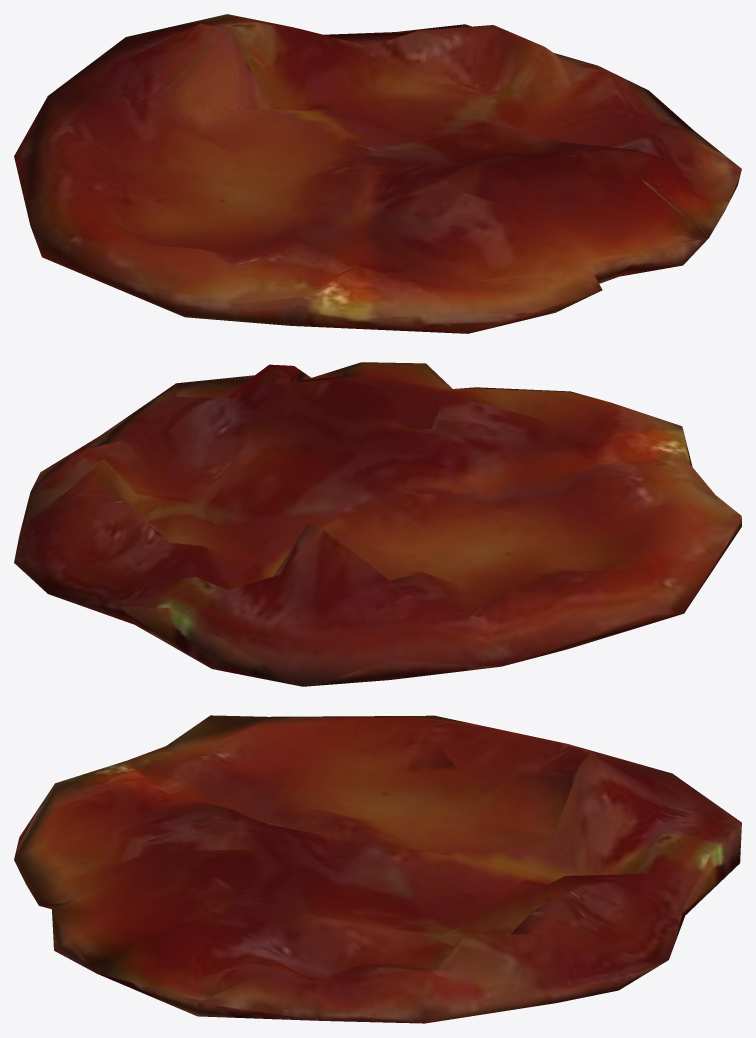
The model's file is sauce-ketchup.glb.
3 renders of one model, top to bottom at view 1: azimuth 30°, elevation 25°; view 2: azimuth 150°, elevation 25°; view 3: azimuth 270°, elevation 25°, orthographic.
Parts seen in each view (by area): view 1: sauce-ketchup; view 2: sauce-ketchup; view 3: sauce-ketchup.
Part boxes in pixels (x1,y1,x2,y2): sauce-ketchup: (14,14,741,333); sauce-ketchup: (14,362,741,686); sauce-ketchup: (14,715,741,1023).
Size of the model in its own units: 6.71 by 1.18 by 6.82.
1 material, 1 textured.
